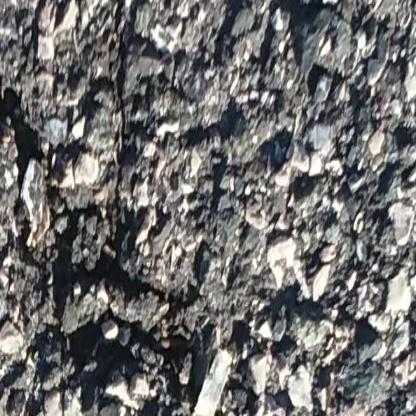Cracks: (0, 0, 235, 416), (0, 51, 44, 332)
